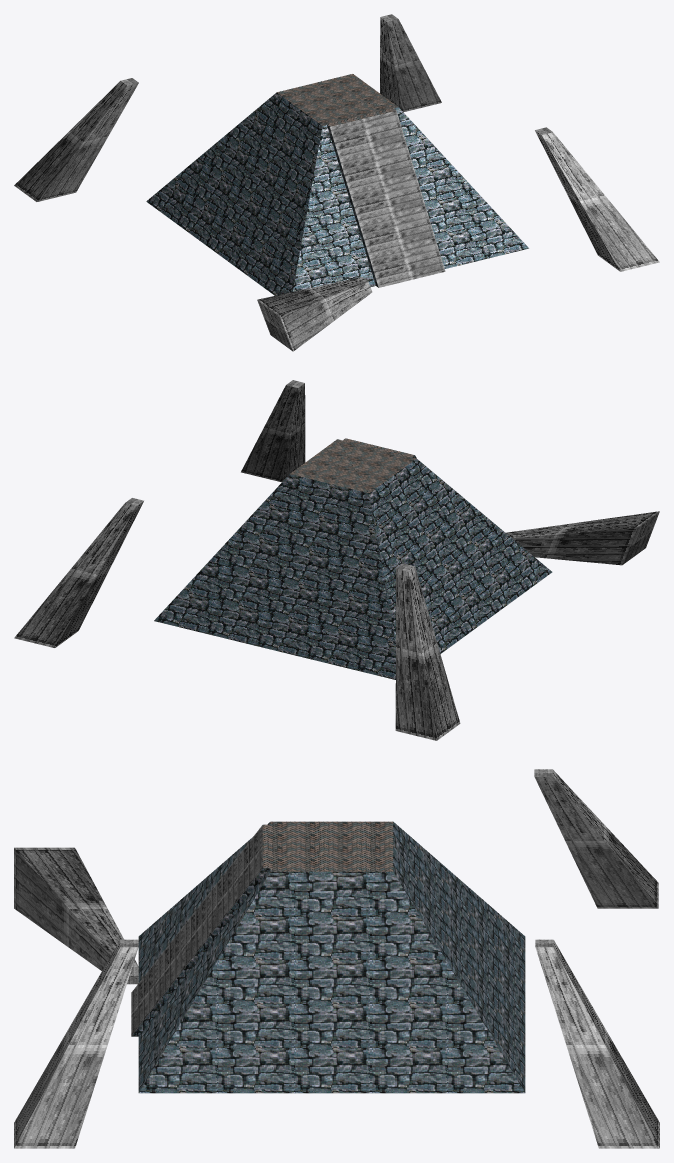
Rendered from ComRuin.fbx.
The picture shows the model from 3 angles, top to bottom: view 1: azimuth 30°, elevation 25°; view 2: azimuth 150°, elevation 25°; view 3: azimuth 270°, elevation 25°; orthographic projection. The views are drawn at different scales.
Visible parts, largest first — view 1: COMRUIN; view 2: COMRUIN; view 3: COMRUIN.
Boxes of the visible parts, x1,y1,x2,y2 form: COMRUIN: [14, 14, 659, 351]; COMRUIN: [14, 380, 659, 740]; COMRUIN: [14, 769, 659, 1148].
Size of the model in its own units: 127 by 37.43 by 130.
